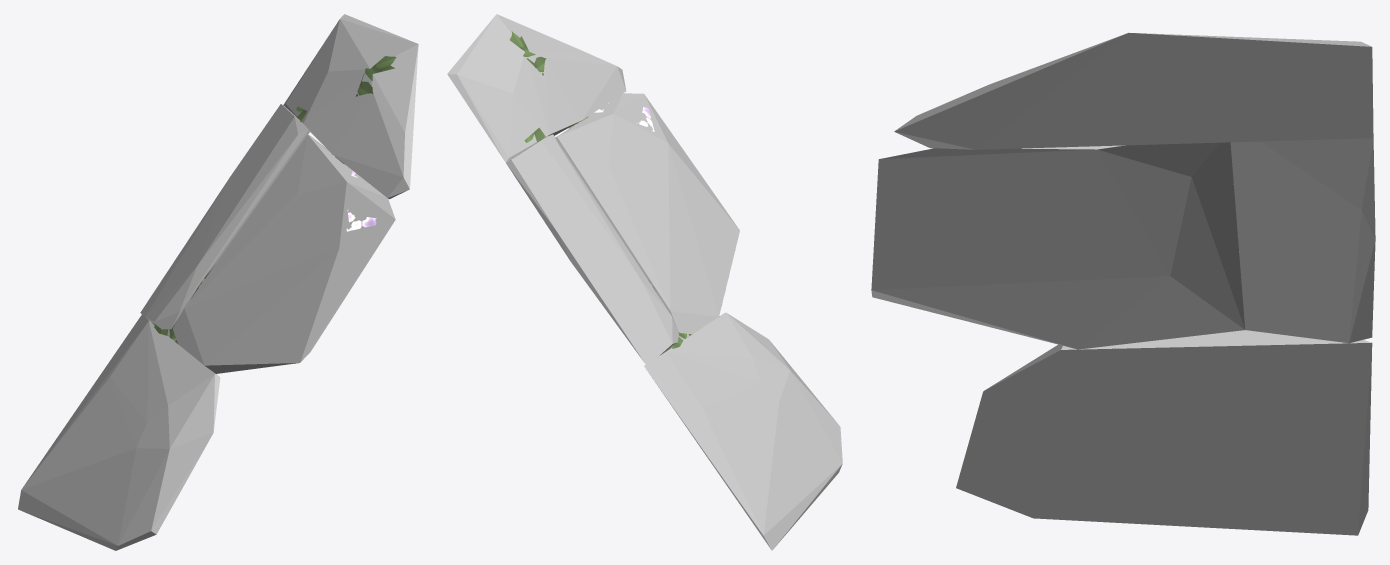
Rendered from SM_Env_Vines_Preset_Roof_Straight_01.fbx.
3 views of the same model, side by side, from view 1: azimuth 30°, elevation 25°; view 2: azimuth 150°, elevation 25°; view 3: azimuth 270°, elevation 25° (orthographic). The views are drawn at different scales.
Visible parts, largest first — view 1: SM_Env_Vines_Preset_Roof_Straight_01_ConvexHulls, SM_Env_Vines_Preset_Roof_Straight_01; view 2: SM_Env_Vines_Preset_Roof_Straight_01_ConvexHulls, SM_Env_Vines_Preset_Roof_Straight_01; view 3: SM_Env_Vines_Preset_Roof_Straight_01_ConvexHulls.
Boxes of the visible parts, bbox=[...] form: SM_Env_Vines_Preset_Roof_Straight_01_ConvexHulls: bbox=[18, 14, 418, 550]; SM_Env_Vines_Preset_Roof_Straight_01: bbox=[152, 56, 396, 343]; SM_Env_Vines_Preset_Roof_Straight_01_ConvexHulls: bbox=[447, 14, 842, 550]; SM_Env_Vines_Preset_Roof_Straight_01: bbox=[509, 31, 691, 351]; SM_Env_Vines_Preset_Roof_Straight_01_ConvexHulls: bbox=[871, 32, 1375, 535].
Size of the model in its own units: 196 by 129 by 233.
3 materials, 2 textured.
